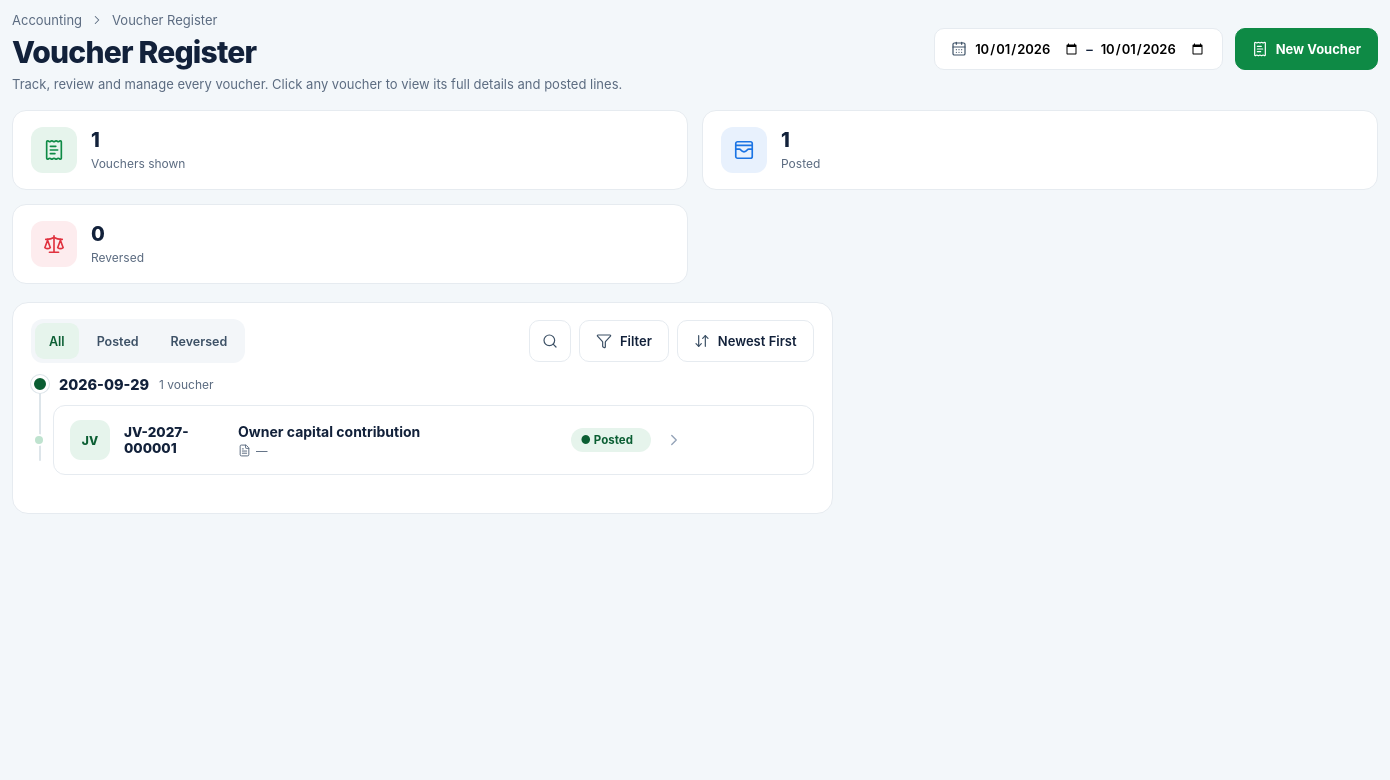
Scenario: VoucherRegister › lists vouchers and opens the inspector with real lines
Expected: the text "JV-2027-000001" is shown, [124,424,188,456]
Click the text "Owner capital contribution" at (329, 431), box [238,422,420,440]
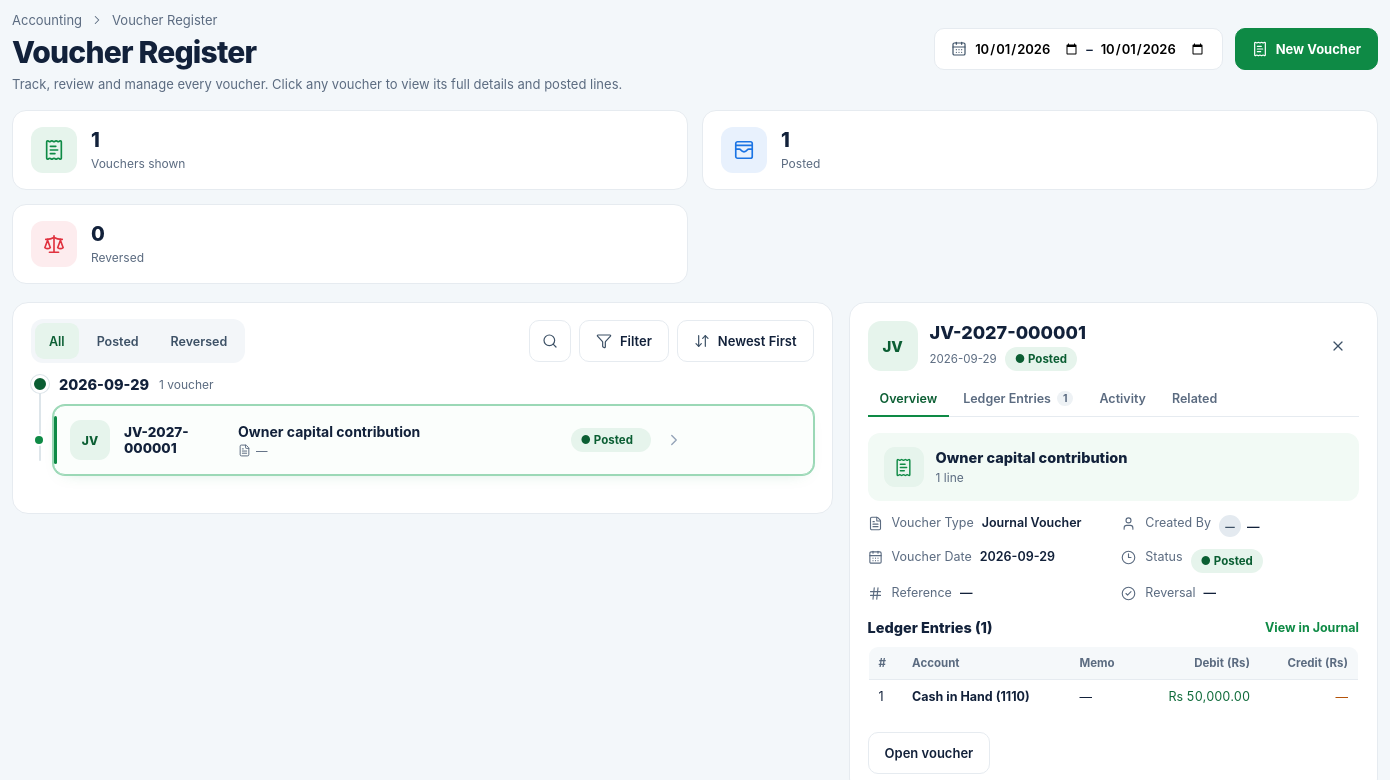
Expected: the text "Cash in Hand (1110)" is shown, [912,689,1030,704]
Expected: the text "Rs 50,000.00" is shown, [1137,680,1260,714]
